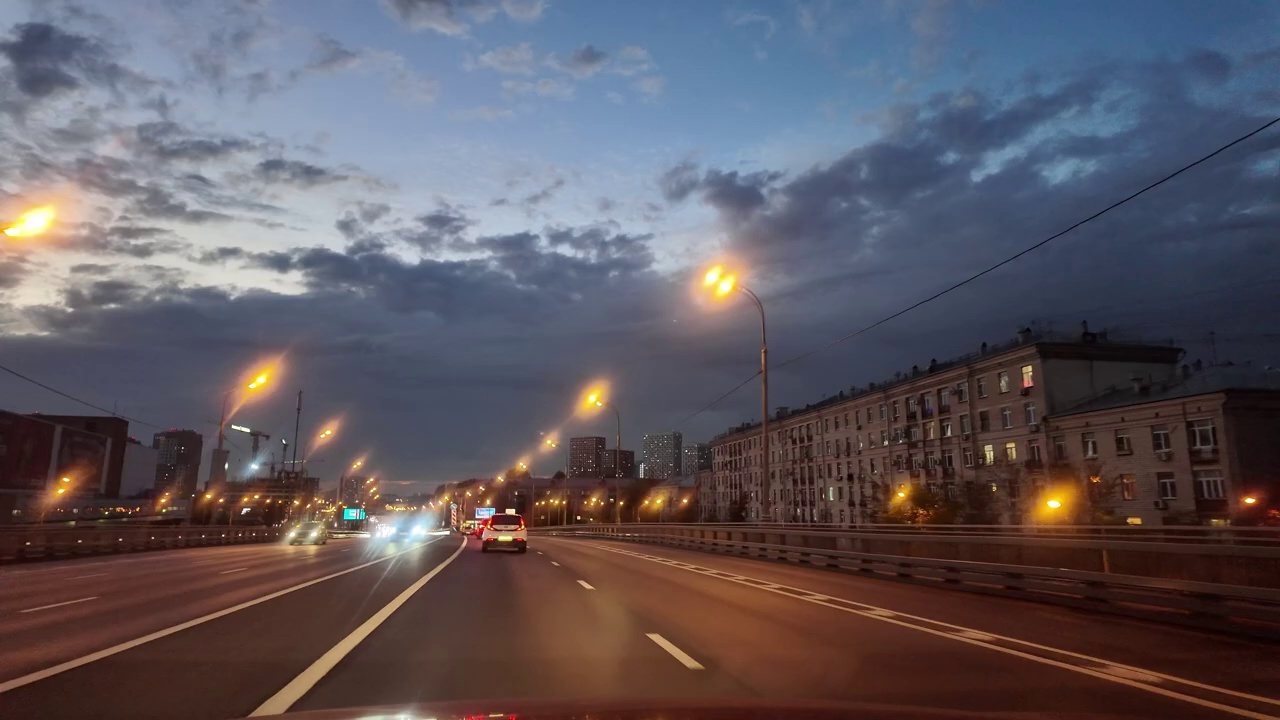acesa: (1, 198, 67, 251), (695, 257, 745, 309), (236, 362, 281, 404), (574, 379, 611, 419), (310, 417, 339, 447)
